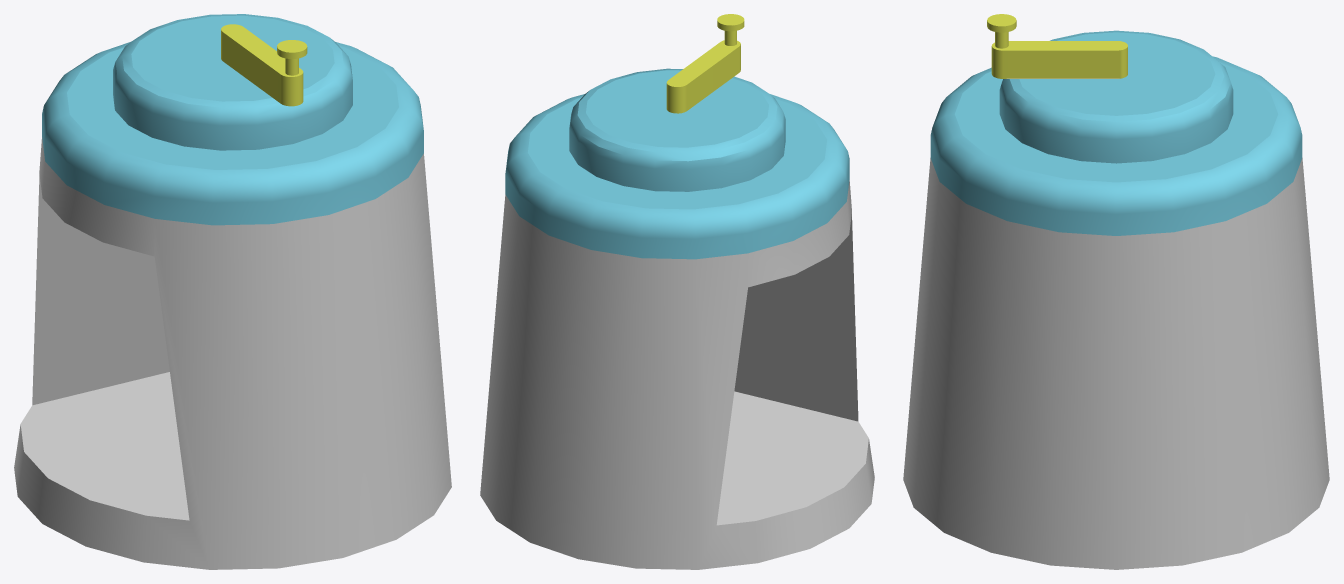
Rendered from kakigooriki.fbx.
3 renders of one model, left to right at view 1: azimuth 30°, elevation 25°; view 2: azimuth 150°, elevation 25°; view 3: azimuth 270°, elevation 25°, orthographic. The views are drawn at different scales.
Visible parts, largest first — view 1: Kakigooriki; view 2: Kakigooriki; view 3: Kakigooriki.
Part boxes in pixels (x1=…): Kakigooriki: x1=14, y1=14, x2=451, y2=569; Kakigooriki: x1=480, y1=14, x2=874, y2=569; Kakigooriki: x1=903, y1=14, x2=1329, y2=569.
Size of the model in its own units: 0.6759 by 0.8072 by 0.6759.
